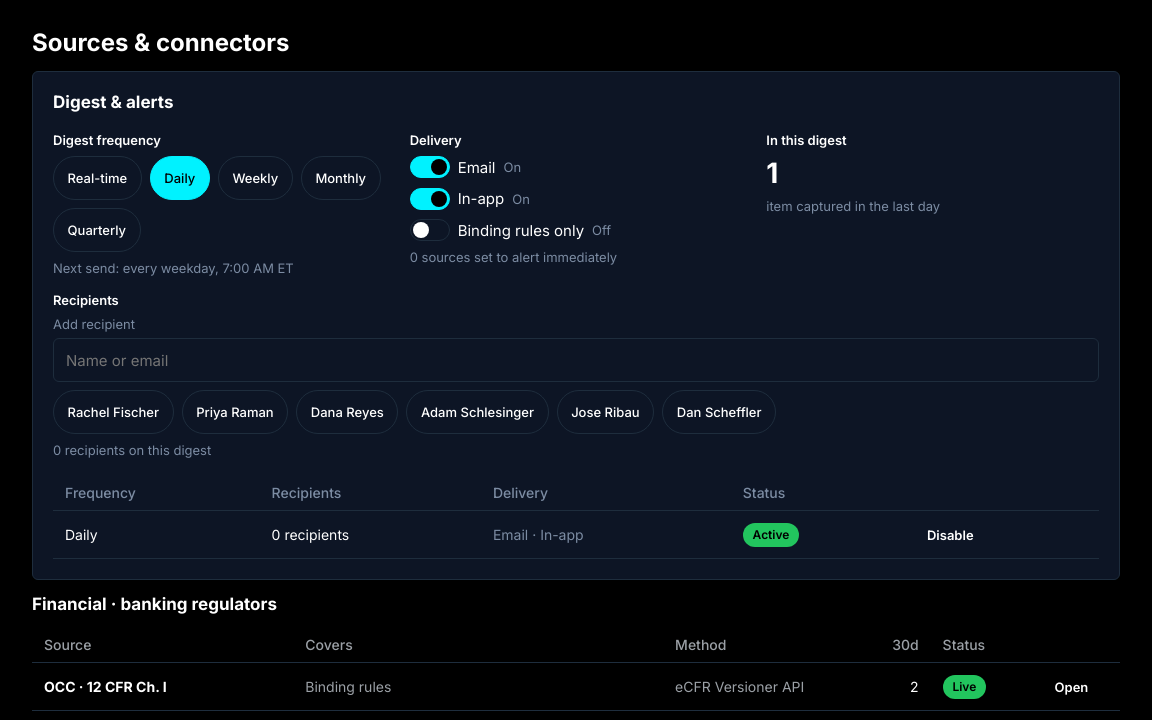
Test: Settings · Toggles — digest recipients (D7: AD roster, Chip filter reuse) › the recipient Input (P6) adds a matched AD user by exact email lookup, never free text
(page scrolled)
Type "dana.reyes@northwindscu.org" into the field labelled "Add recipient". click: (576, 360)
box: [53,338,1099,382]
Then press Enter
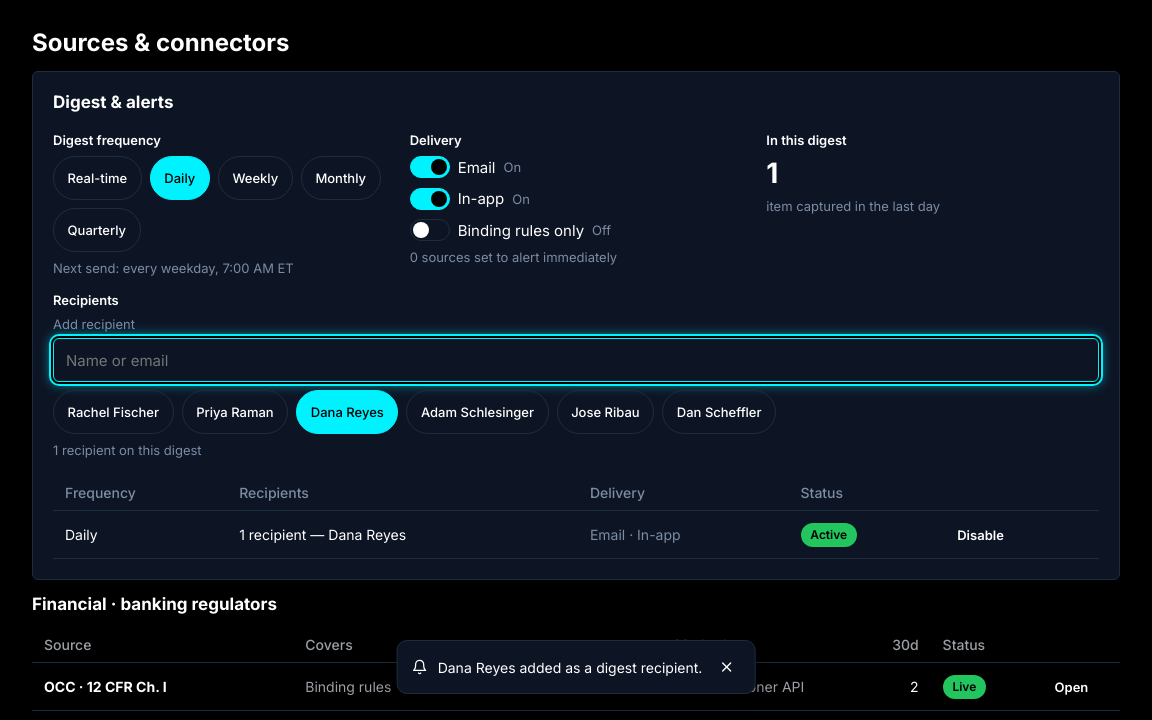
Expected: the text "Dana Reyes added as a digest recipient." is shown, [438,658,702,676]
